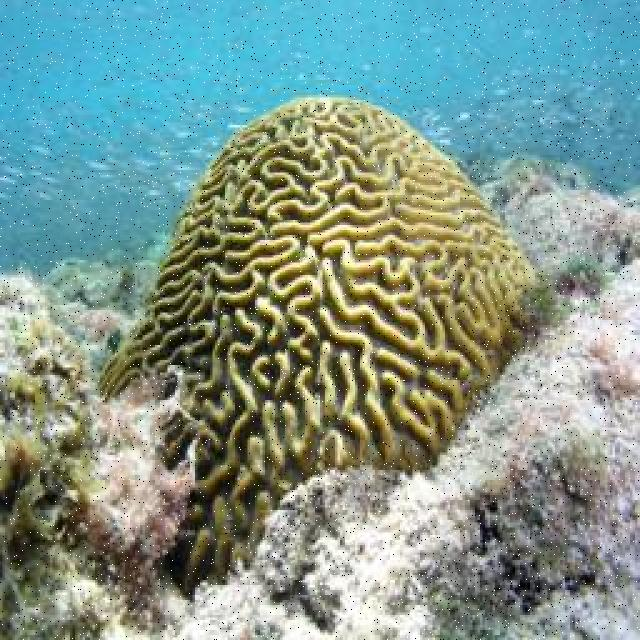reefs: (95, 96, 538, 598)
